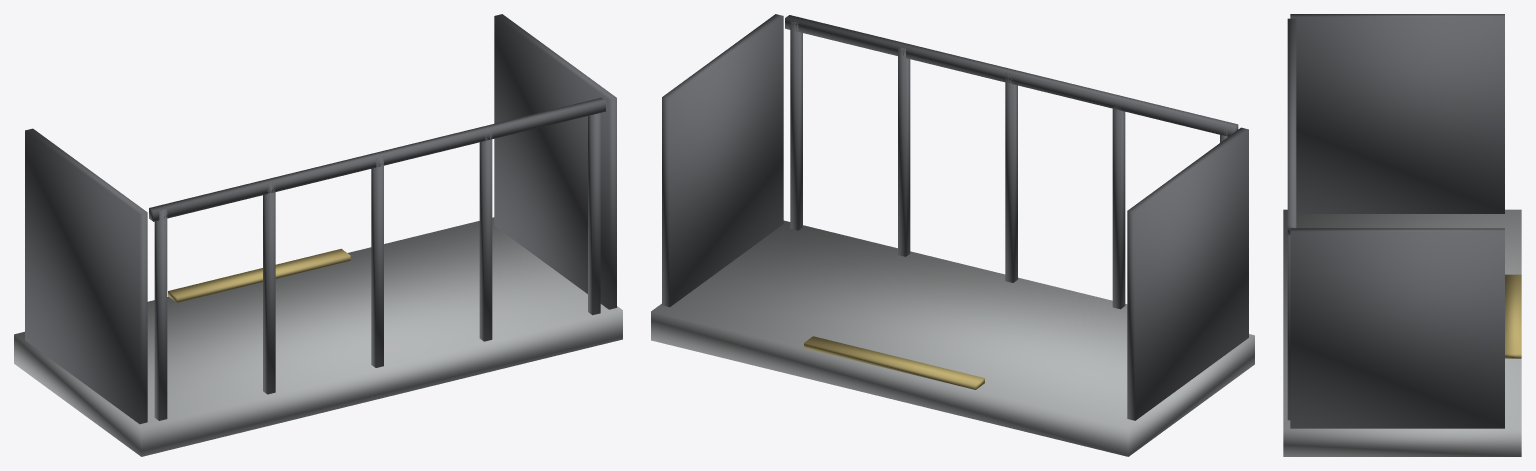
File: steel_w240_d110_door.glb
The picture shows the model from 3 angles, left to right: view 1: azimuth 30°, elevation 25°; view 2: azimuth 150°, elevation 25°; view 3: azimuth 270°, elevation 25°; orthographic projection. The views are drawn at different scales.
Visible parts, largest first — view 1: world; view 2: world; view 3: world.
Part boxes in pixels (x1,y1,x2,y2): world: [14, 14, 622, 456]; world: [651, 14, 1254, 456]; world: [1283, 14, 1521, 456].
Size of the model in its own units: 2.4 by 1.14 by 1.1.
